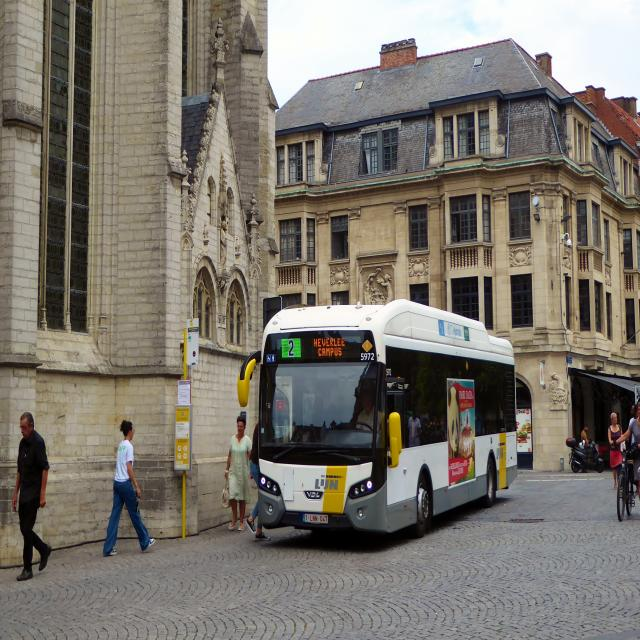bus-number: (282, 339, 300, 357)
